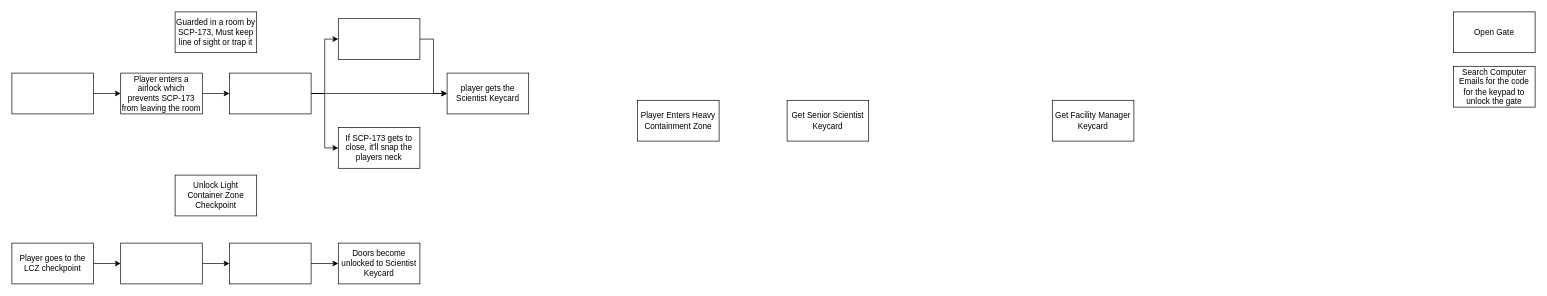
Image size: 1547x296. Some labels were removed from this diagram. The shapes that lost their labels are listed below. From the top down, each one's box as (x1, y1, x2, y2) in pixels, then its label:
(338, 18, 420, 60): SCP-173 gets trapped in a smaller room
(11, 72, 94, 114): Before entering, SCP Document is outside the room explaining how SCP-173 Works
(229, 72, 311, 114): Player must navigate the room filled with shelves and boxes
(120, 242, 202, 284): Player looks around to find a post-it note with keypad code to unlock door
(229, 242, 311, 284): Player enters code in keypad
